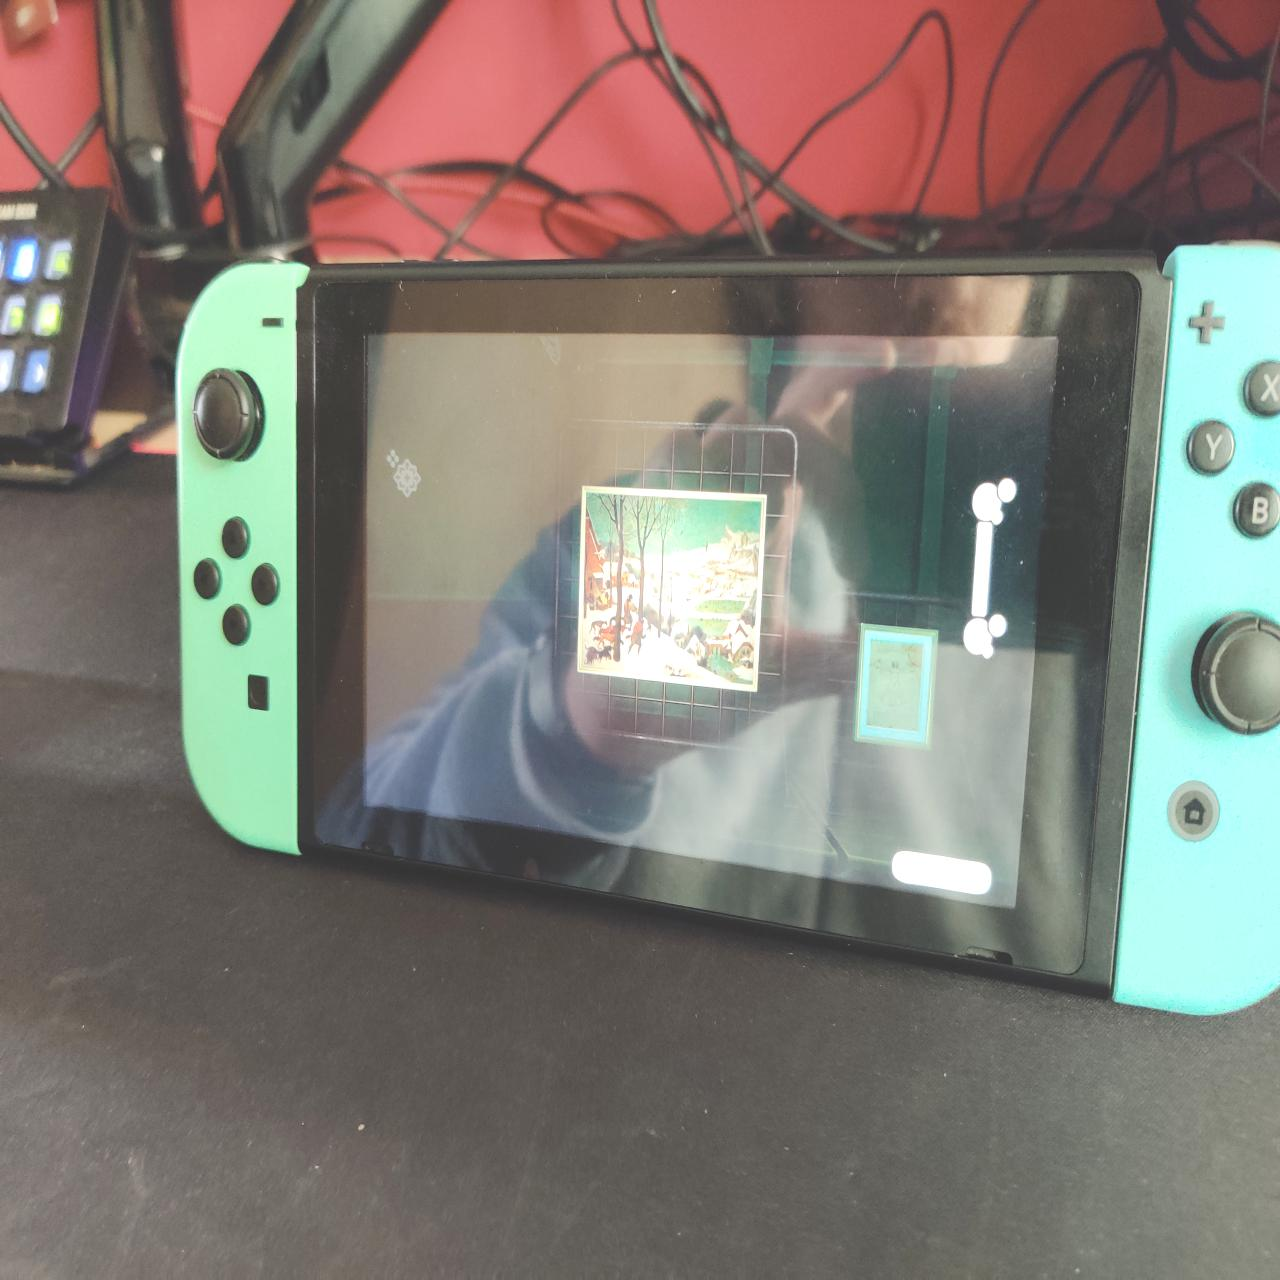HunterSnow: (584, 489, 762, 692)
